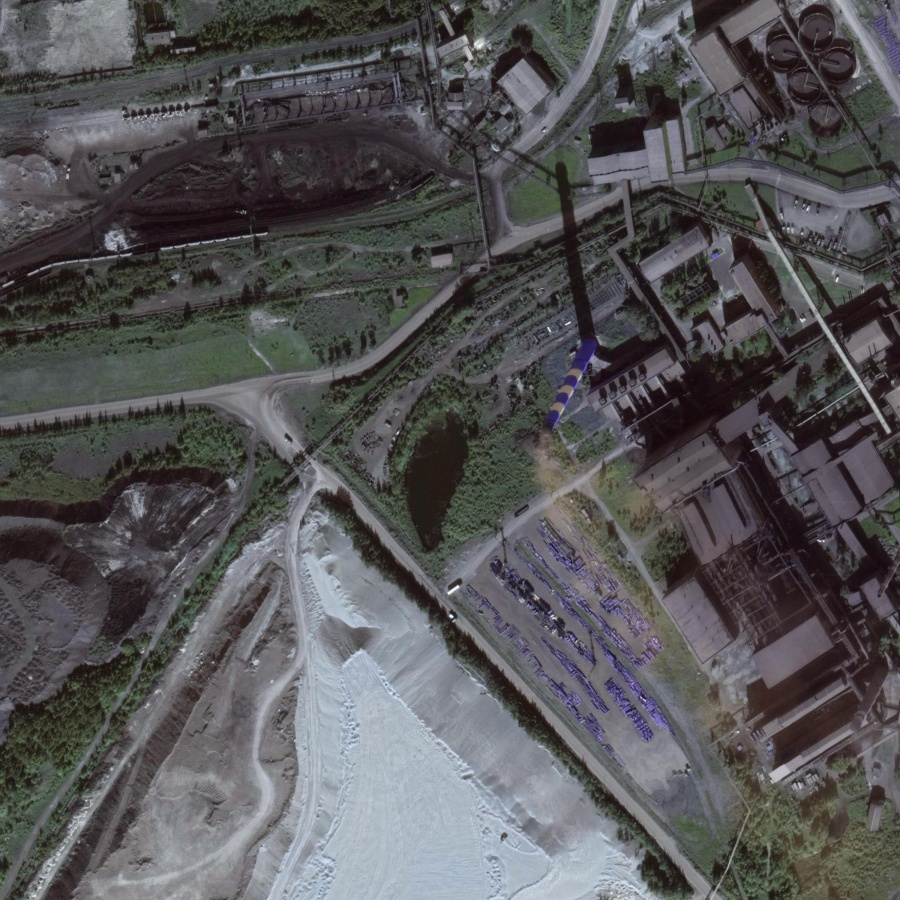PowerPlant: (516, 166, 894, 646), (3, 98, 443, 262)
